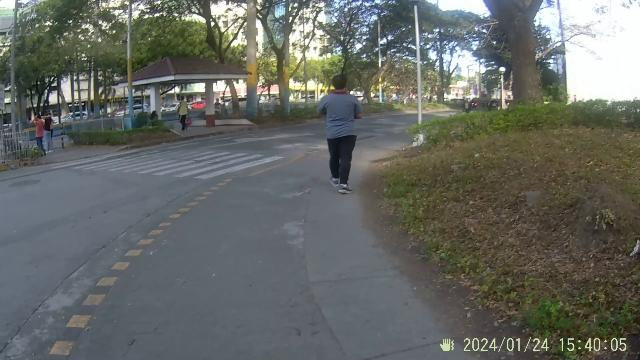lamp_post: (496, 64, 509, 109)
utility_post: (243, 0, 261, 122), (279, 9, 293, 119), (124, 15, 136, 119)
